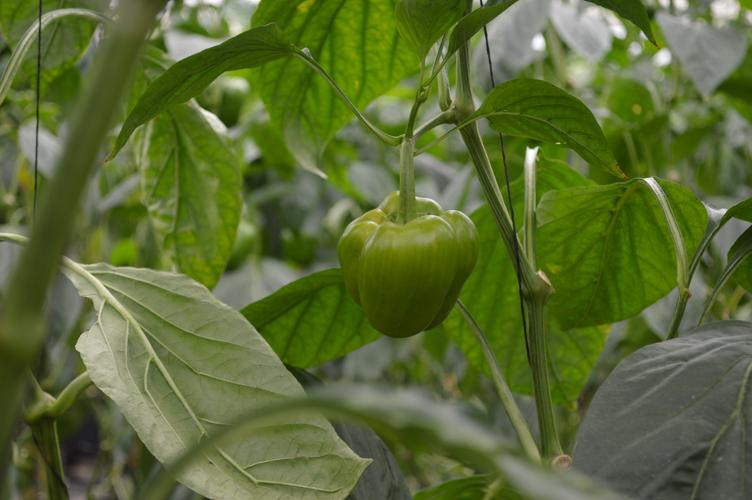BellPepper: (331, 198, 482, 344)
